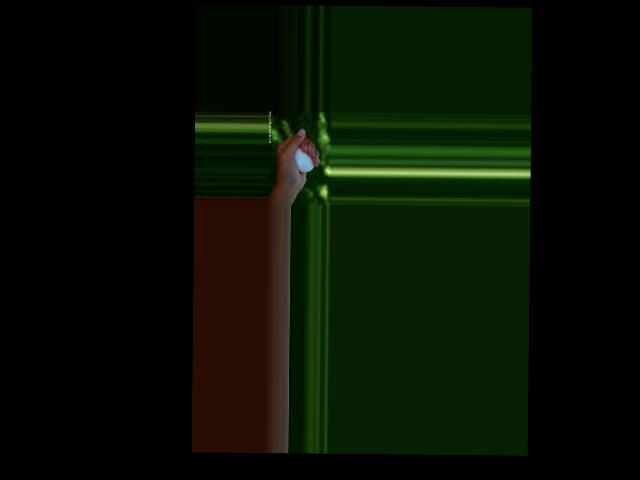egg: (294, 146, 314, 172)
